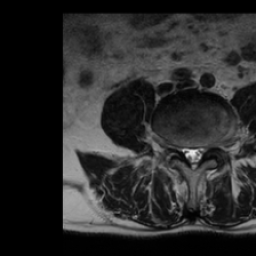CCS_normal: (188, 141, 198, 172)
LFS_severe_stenosis: (206, 138, 213, 157)
LLS_normal: (198, 141, 205, 164)
RFS_severe_stenosis: (172, 140, 181, 159)
RLS_stenosis: (181, 141, 190, 164)
